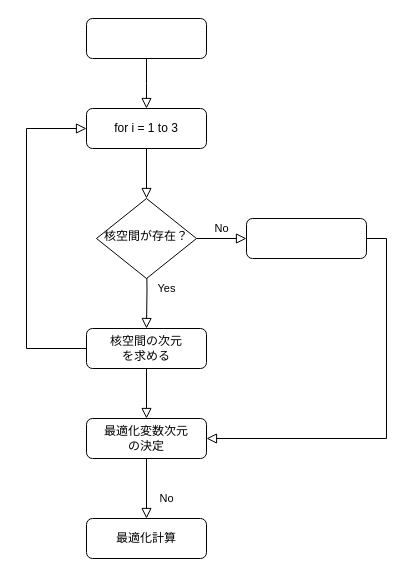
The diagram is 414 pixels wide and 576 high, and some of its shapes have lost their labels. The shapes that lost their labels are listed below. From the top down, each one's centre as x and y in pixels, then its label:
At (x=146, y=38): "INPUT 固有値の最小値， パラメータ".
At (x=306, y=238): "最小値固有ベクトルの重複度を求める".
